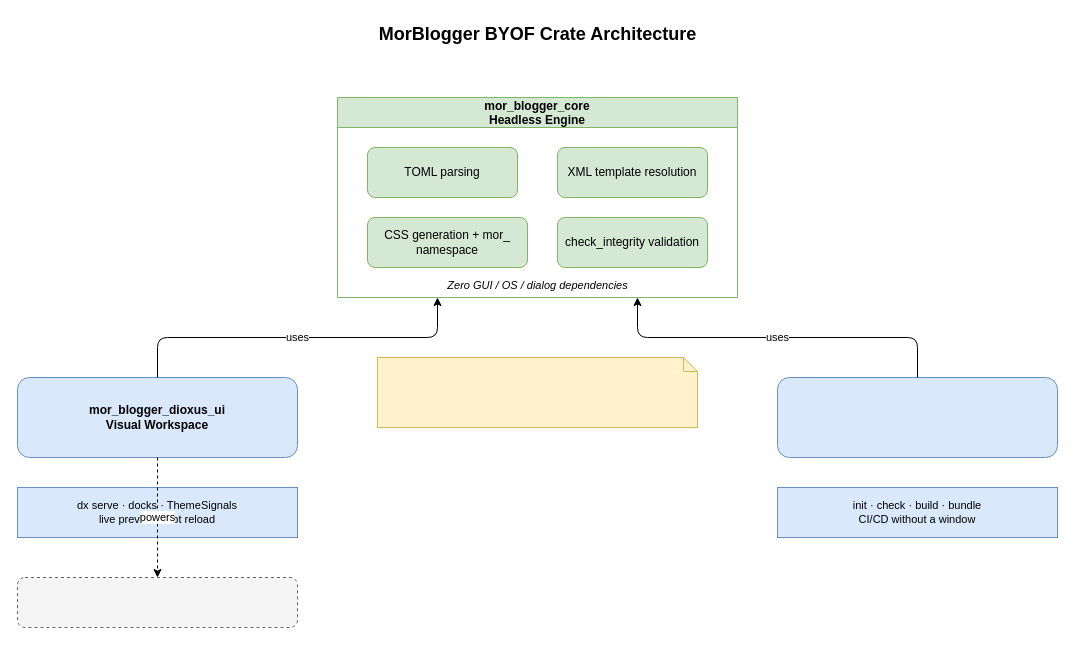
The diagram is 1075 pixels wide and 645 high, and some of its shapes have lost their labels. The shapes that lost their labels are listed below. From the top down, each one's centre as x and y in pixels, then its label:
At (x=537, y=392): "Hard compile-time boundary frontends call core only".
At (x=917, y=417): "mor_blogger_cli (mbt) Terminal Interface".
At (x=157, y=602): "mor_rust_dioxus_ui_kit (external UI kit)".
